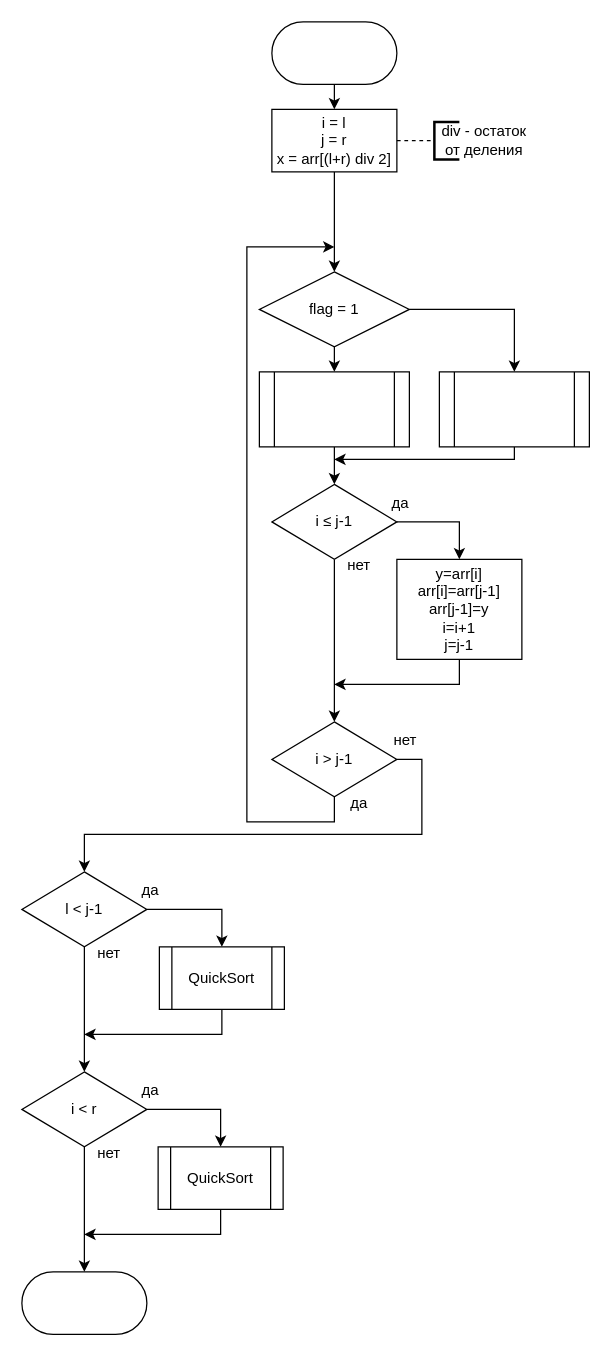
Some shapes in this 611 by 1356 pixel diagram are drawn without their labels. Here are the shapes that lost their labels. From the top down, the centre of each, then its label:
At pixel 334 52: "начало QuickSort".
At pixel 333 409: "Quickcomparetor1".
At pixel 513 409: "Quickcomparetor2".
At pixel 84 1302: "конец".
